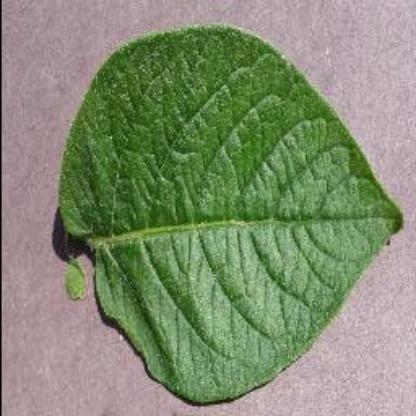Healthy-plant: (51, 17, 405, 403)
